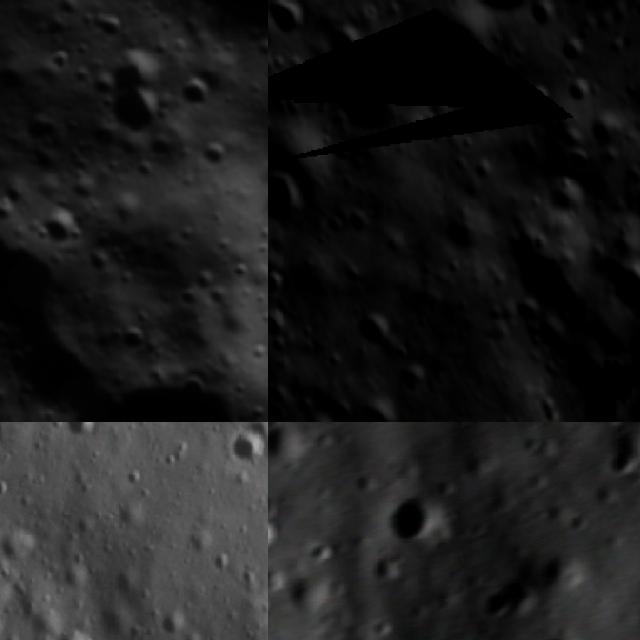crater: (91, 0, 268, 131), (46, 324, 268, 422), (0, 187, 99, 391), (369, 488, 452, 572), (100, 77, 179, 156), (469, 569, 543, 637), (168, 63, 229, 125), (184, 126, 244, 186), (442, 0, 555, 30), (268, 156, 309, 234), (268, 422, 319, 483), (600, 250, 640, 325), (268, 0, 316, 50), (0, 519, 44, 573), (596, 438, 640, 492), (343, 307, 392, 355), (357, 550, 406, 598), (217, 426, 268, 472), (40, 0, 128, 24), (242, 134, 268, 211), (352, 392, 414, 422), (522, 76, 560, 122), (268, 506, 294, 570), (558, 68, 598, 108), (548, 28, 587, 68), (111, 561, 147, 603), (563, 144, 595, 186), (154, 607, 193, 640), (296, 401, 355, 422), (61, 422, 102, 452), (47, 622, 91, 640)
